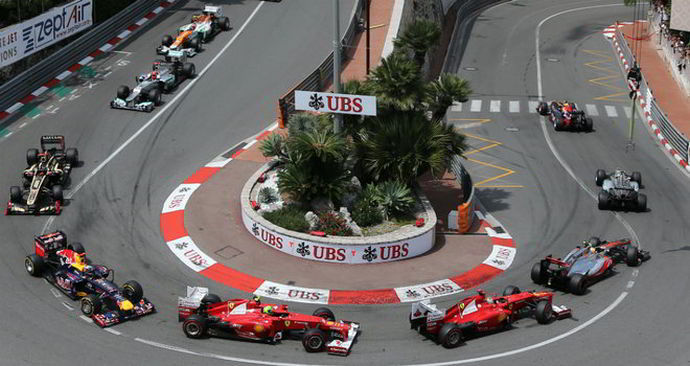race car: (21, 230, 157, 332), (175, 283, 361, 357), (408, 283, 574, 352), (529, 233, 652, 296), (1, 132, 83, 220), (107, 49, 199, 114), (155, 3, 231, 66), (592, 166, 649, 216), (536, 97, 594, 136)
